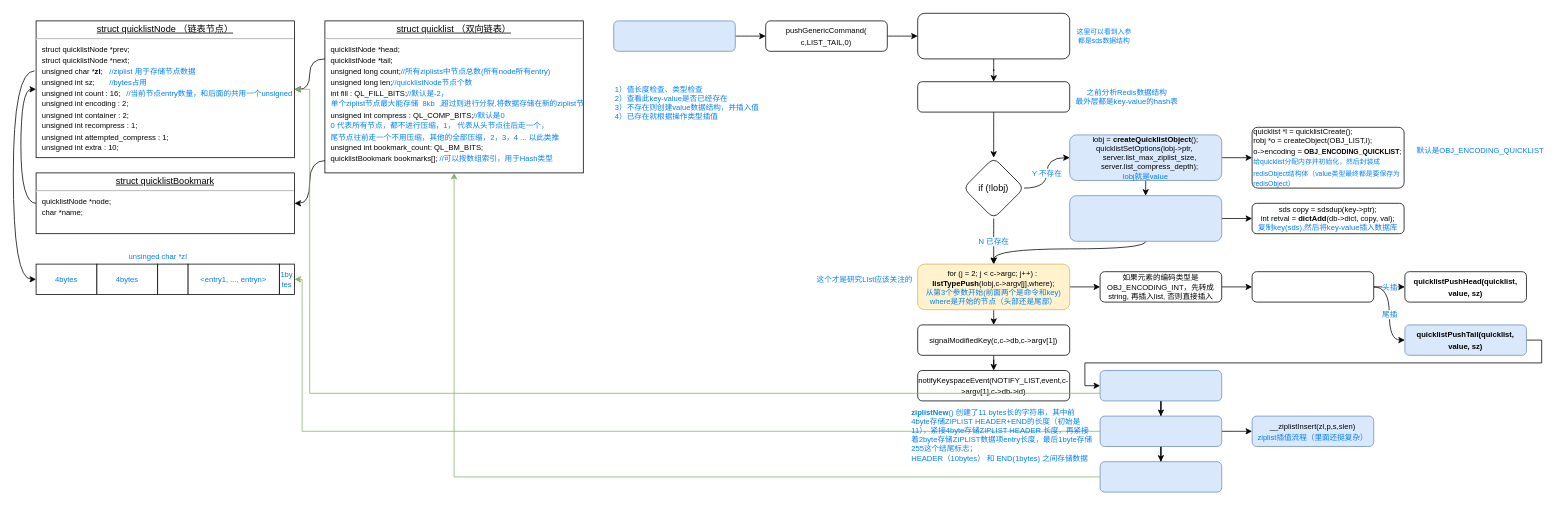
Some shapes in this 1562 by 505 pixel diagram are drawn without their labels. Here are the shapes that lost their labels. From the top down, the centre of each, then its label:
the point at 674,35: void rpushCommand(client *c)
the point at 993,36: for: sdslen (c->argv[j]->ptr) > LIST_MAX_ITEM_SIZE 元素长度检查，不能超过(1ull<<32)-1024
the point at 993,96: robj *lobj = lookupKeyWrite(c->db, c->argv[1]) 查key对应的value值是否存在
the point at 1145,218: dbAdd (c->db,c->argv[1],lobj); argv[1]是key 所有数据类型最外层数据结构都是hash表（dict）,插值的操作都是一样的
the point at 172,278: 2bytes
the point at 1312,286: quicklistPush (subject->ptr, value->ptr, sdslen(value->ptr), pos)
the point at 1160,385: quicklistNode *node = quicklistCreateNode ();
the point at 1160,430: node->zl = ziplistPush ( ziplistNew (), value, sz, ZIPLIST_TAIL)
the point at 1160,476: quicklistNodeUpdateSz(node) 更新struct quicklist 成员变量
